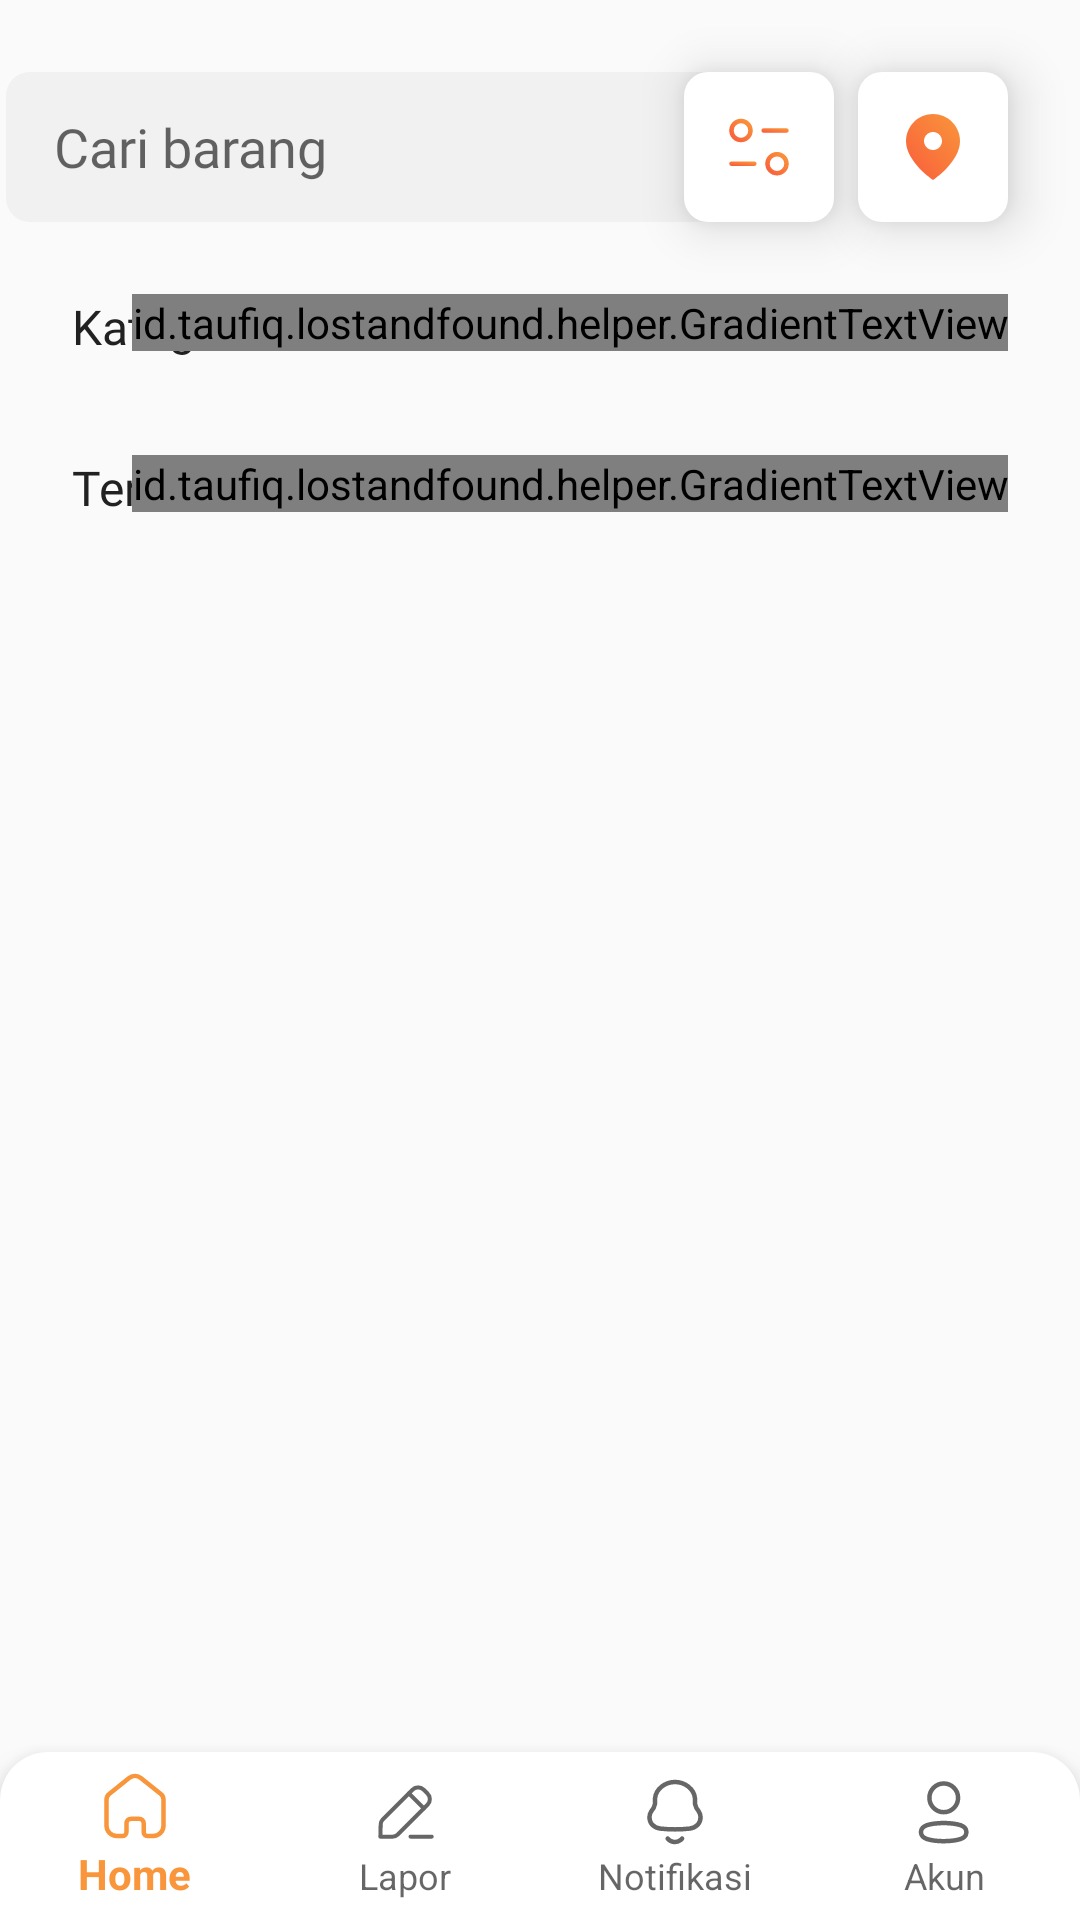

Locate icon controls on the screen. Image size 1080px x 1920px, boxes as box(x1, y1, x2, y2).
filter button: box(684, 72, 834, 222)
location pin button: box(858, 72, 1008, 222)
